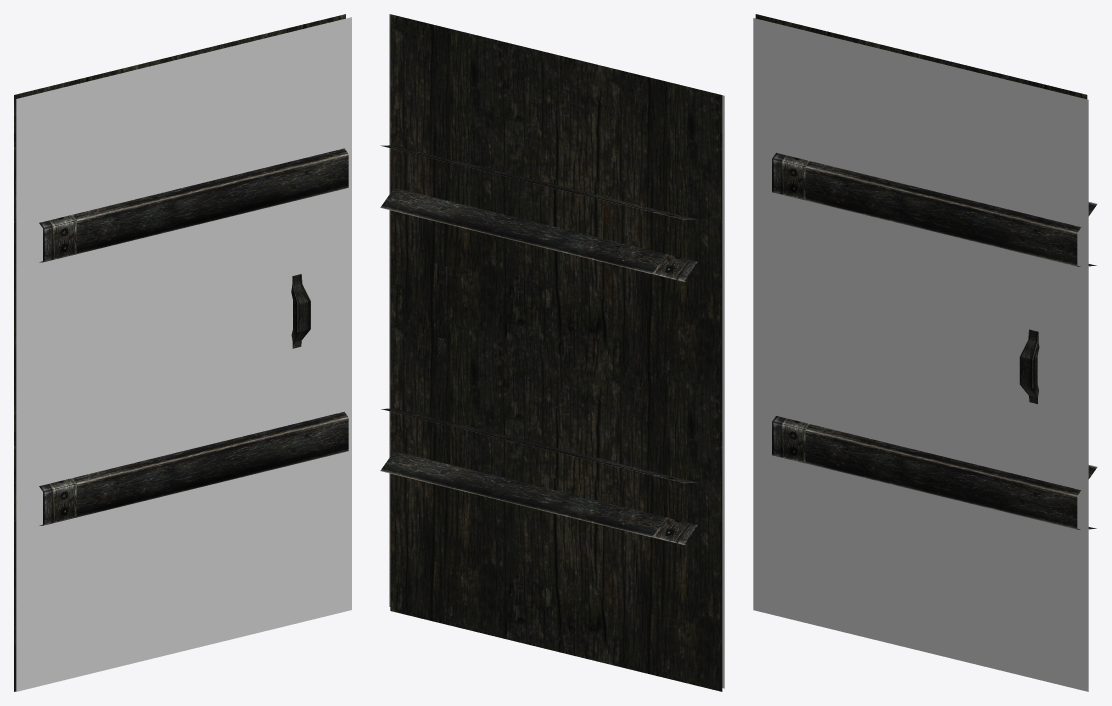
Rendered from d_ex_nord_door_01.dae.
3 views of the same model, side by side, from view 1: azimuth 30°, elevation 25°; view 2: azimuth 150°, elevation 25°; view 3: azimuth 330°, elevation 25° (orthographic).
Visible parts, largest first — view 1: nifid_17-matrix, nifid_6-matrix, nifid_1-matrix, nifid_11-matrix; view 2: nifid_1-matrix, nifid_6-matrix, nifid_17-matrix, nifid_11-matrix; view 3: nifid_17-matrix, nifid_6-matrix, nifid_11-matrix, nifid_1-matrix.
Boxes of the visible parts, x1,y1,x2,y2 form: nifid_17-matrix: (16, 17, 351, 691); nifid_6-matrix: (73, 148, 348, 517); nifid_1-matrix: (14, 14, 345, 691); nifid_11-matrix: (39, 214, 76, 525); nifid_1-matrix: (390, 14, 722, 691); nifid_6-matrix: (380, 145, 665, 537); nifid_17-matrix: (389, 14, 724, 688); nifid_11-matrix: (652, 211, 699, 545); nifid_17-matrix: (753, 18, 1088, 691); nifid_6-matrix: (805, 161, 1097, 529); nifid_11-matrix: (772, 153, 809, 463); nifid_1-matrix: (755, 14, 1087, 99).
Bounding box in the file's own units: 116 × 14.24 × 197.
Materials: 3 (3 with a texture image).
